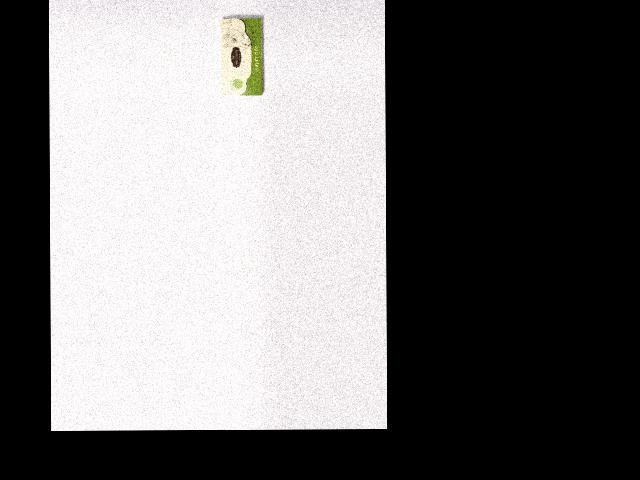chocolate: (219, 17, 263, 96)
